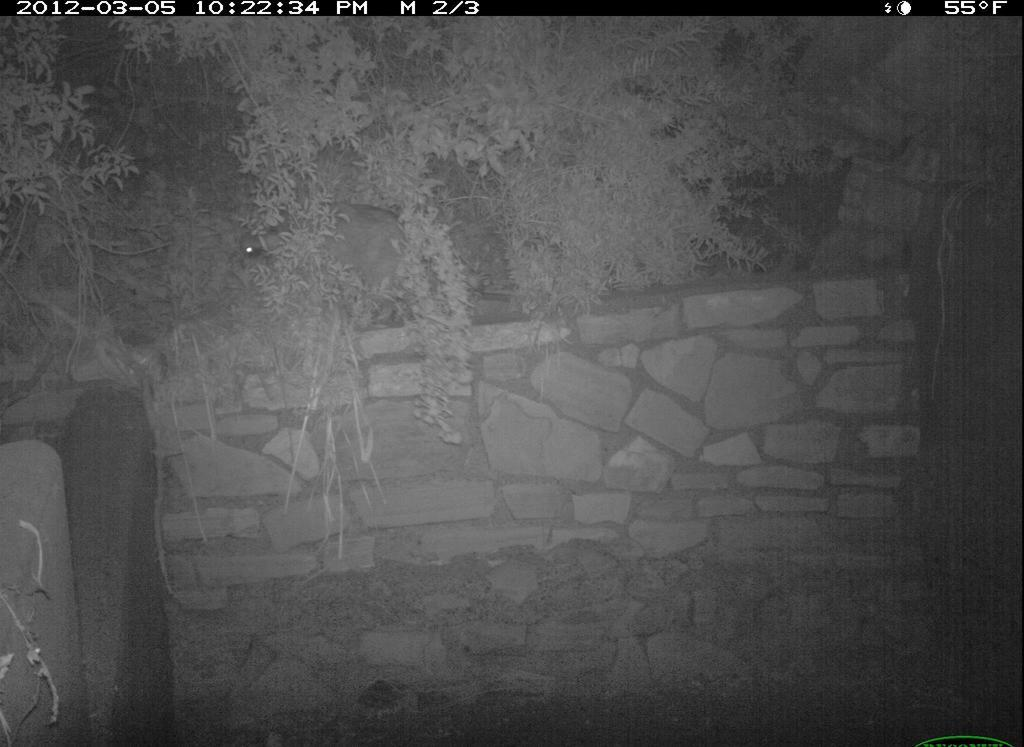raccoon: (230, 195, 441, 322)
